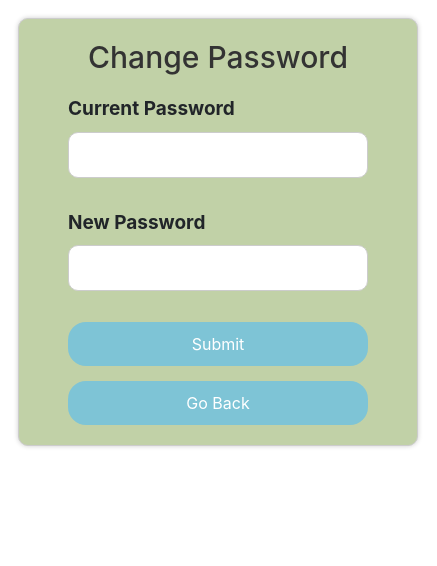
Test: EditForm › renders the form and handles password change
The width and height of the screenshot is (437, 566).
Note: Simulate user input for current and new passwords
Step 1. Type "currentPass" into the password field labelled "Current Password" → (218, 154), box [68,132,368,178]
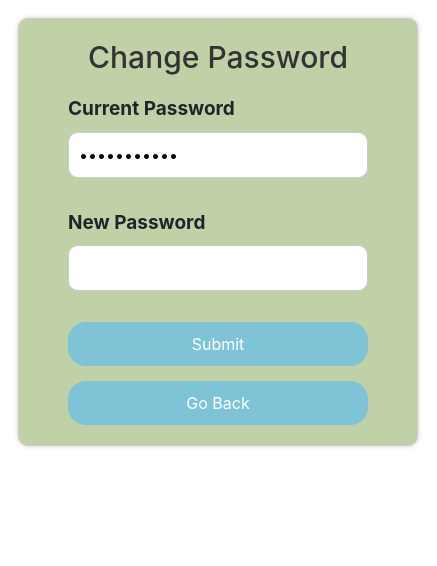
Step 2. Type "newPass" into the password field labelled "New Password" → (218, 268), box [68,245,368,291]
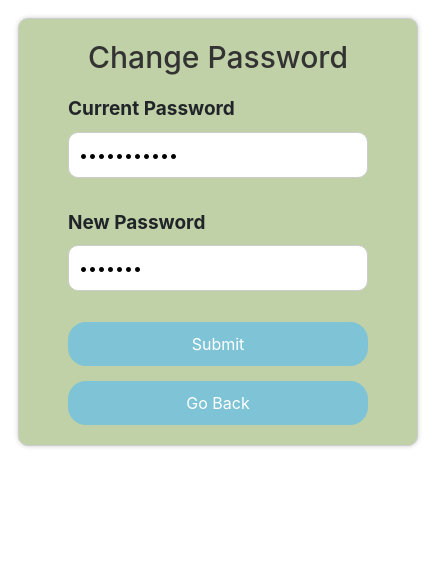
Note: Submit the form
Step 3. Click the button "Submit" → click(218, 344), box [68,322,368,366]
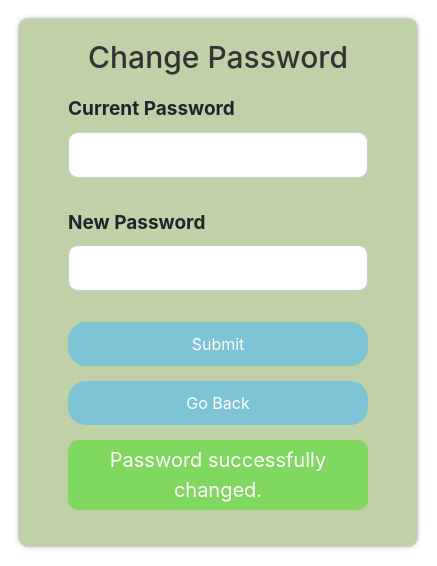
Now the text "Password successfully changed." is shown, box [68,440,368,510]
